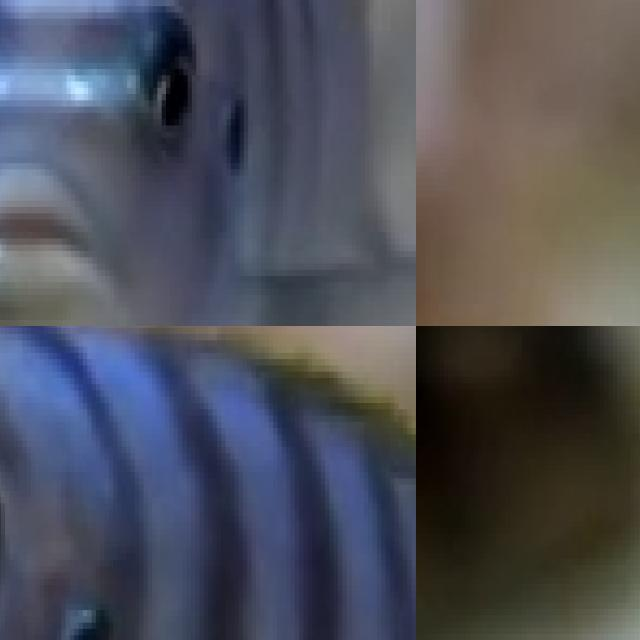fish: (0, 0, 416, 326), (416, 326, 640, 640)
